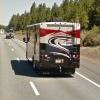Bus: (21, 20, 81, 78)
